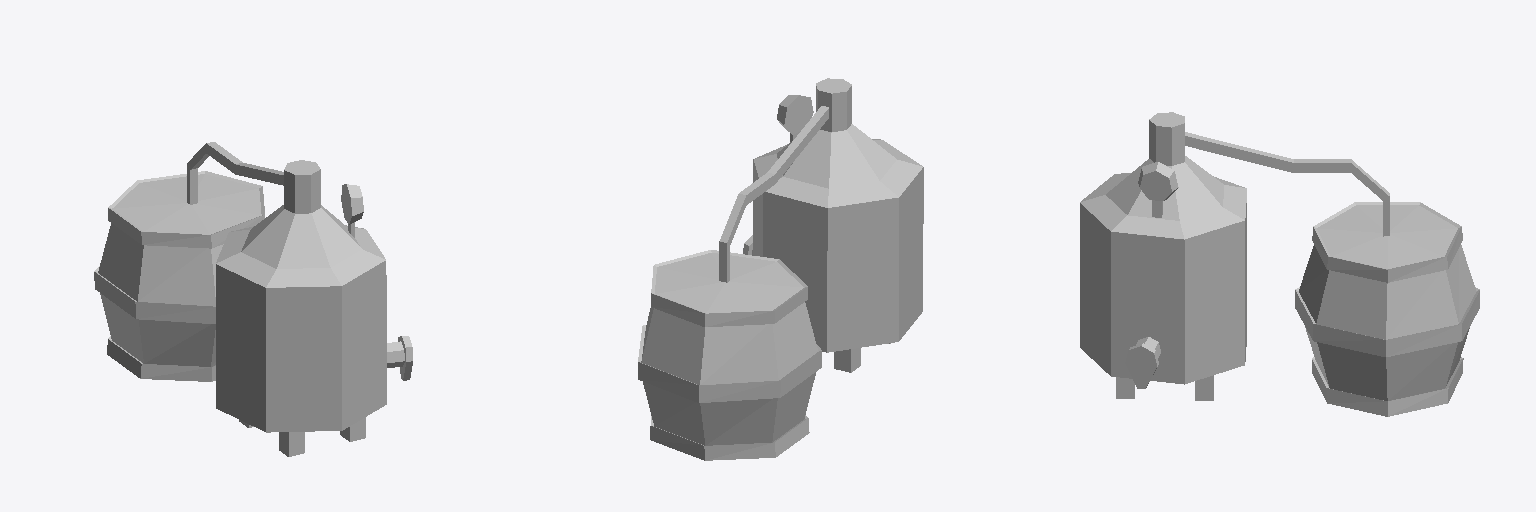
The model's file is Alcoholstill.obj.
3 views of the same model, side by side, from view 1: azimuth 30°, elevation 25°; view 2: azimuth 150°, elevation 25°; view 3: azimuth 270°, elevation 25° (orthographic).
Parts seen in each view (by area): view 1: pCylinder1, pCylinder2, pCube2, pCylinder3, pCube1; view 2: pCylinder2, pCylinder1, pCube2, pCylinder3, pasted__pCube1 group; view 3: pCylinder1, pCylinder2, pCube2, pCylinder3, pasted__pCylinder3 group2.
Boxes of the visible parts, x1=… form: pCylinder1: x1=216, y1=160, x2=386, y2=432; pCylinder2: x1=94, y1=171, x2=264, y2=381; pCube2: x1=187, y1=142, x2=283, y2=204; pCylinder3: x1=341, y1=184, x2=363, y2=224; pCube1: x1=279, y1=432, x2=304, y2=456; pCylinder2: x1=638, y1=250, x2=821, y2=460; pCylinder1: x1=753, y1=78, x2=923, y2=352; pCube2: x1=719, y1=106, x2=828, y2=282; pCylinder3: x1=777, y1=95, x2=813, y2=134; pasted__pCube1 group: x1=834, y1=348, x2=860, y2=372; pCylinder1: x1=1080, y1=112, x2=1246, y2=384; pCylinder2: x1=1295, y1=202, x2=1479, y2=416; pCube2: x1=1185, y1=132, x2=1389, y2=236; pCylinder3: x1=1138, y1=162, x2=1178, y2=200; pasted__pCylinder3 group2: x1=1125, y1=343, x2=1158, y2=388.
Bounding box in the file's own units: 2.3 × 3.31 × 4.57.